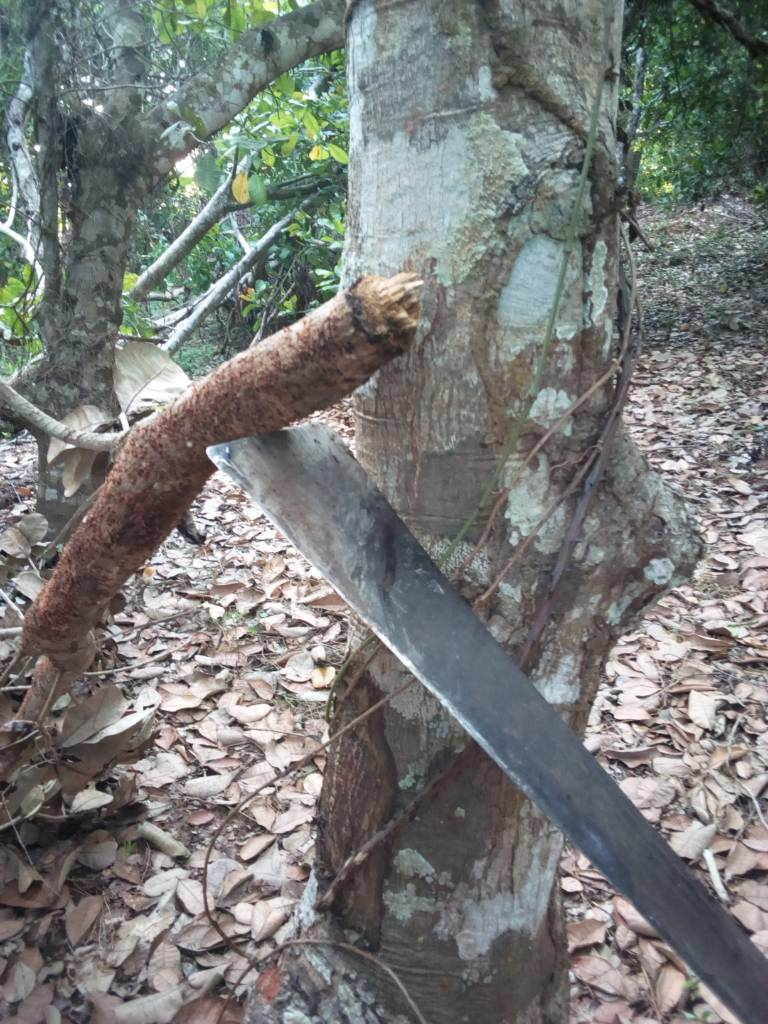Analepse trifasciata: (318, 252, 458, 363)
